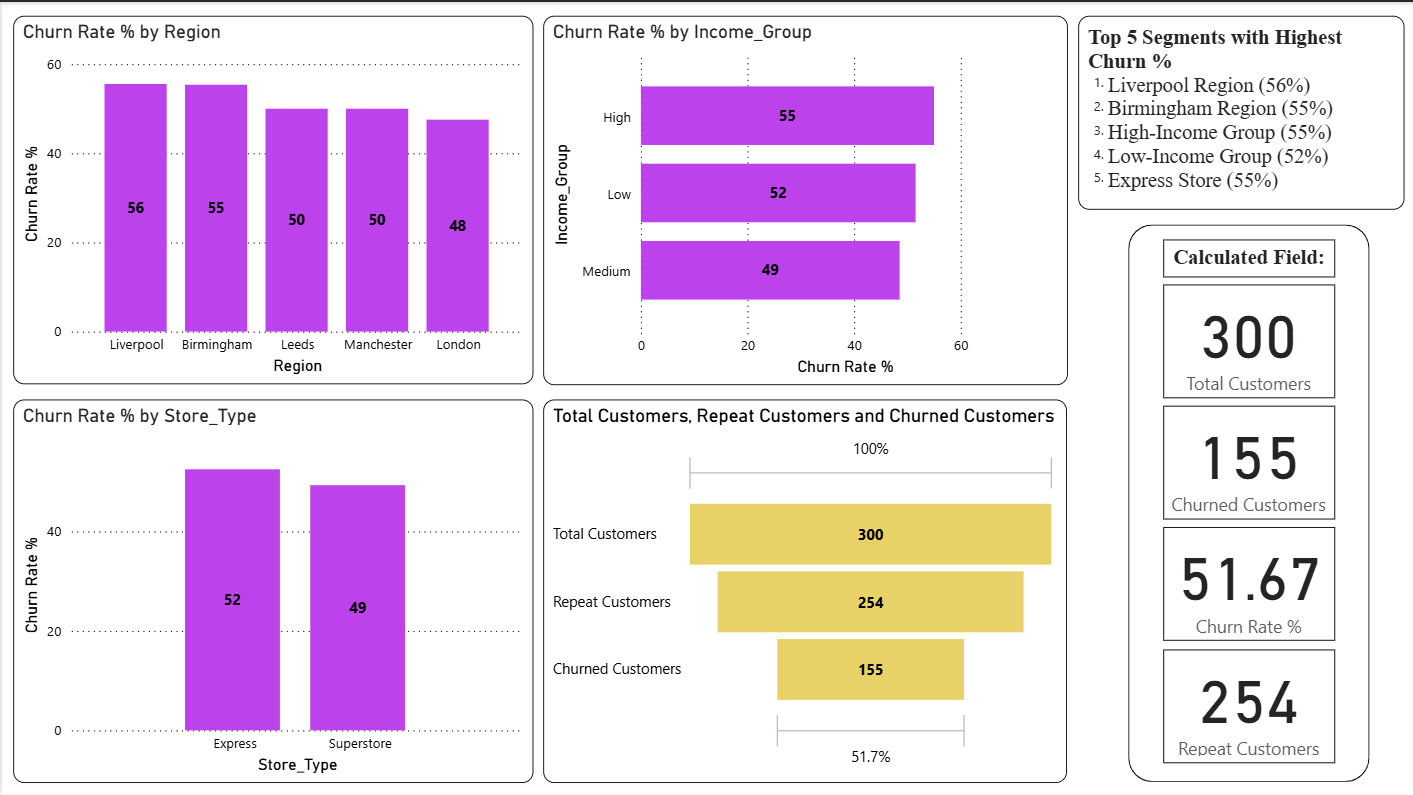

This screenshot's page, from the dashboard's own definition file:
{"tool":"powerbi","page":{"name":"Churn & Retention","canvas":[1280,720],"ordinal":0},"visuals":[{"type":"card","fields":{"Values":["Customer_Demographics.Churned Customers"]},"box":[1054.2,366.6,155.8,103.1],"z":0},{"type":"card","fields":{"Values":["Customer_Demographics.Customers Total"]},"box":[1054.2,256.3,155.8,103.1],"z":1000},{"type":"card","fields":{"Values":["Churn_Labelled_Customers.Churn Rate"]},"box":[1054.2,476.8,155.8,103.1],"z":2000},{"type":"columnChart","fields":{"Category":["Customer_Demographics.Region"],"Y":["Churn_Labelled_Customers.Churn Rate"]},"box":[10.2,12.5,471.8,334.6],"z":3000},{"type":"barChart","fields":{"Category":["Customer_Demographics.Income_Group"],"Y":["Churn_Labelled_Customers.Churn Rate"]},"box":[491.4,12,475.8,335.6],"z":4000},{"type":"columnChart","fields":{"Y":["Churn_Labelled_Customers.Churn Rate"],"Category":["Store_Locations.Store_Type"]},"box":[10.2,360.7,471.8,348.2],"z":5000},{"type":"funnel","fields":{"Y":["Customer_Demographics.Customers Total","Customer_Transactions.Repeat_Customers","Customer_Demographics.Churned Customers"]},"box":[491.1,360.7,475.2,348.2],"z":6000},{"type":"card","fields":{"Values":["Customer_Transactions.Repeat_Customers"]},"box":[1054.2,587.1,155.8,103.1],"z":7000},{"type":"textbox","box":[976.8,12,296,176.2],"z":8000},{"type":"textbox","box":[1054.2,215.6,155.8,34.8],"z":9000},{"type":"shape","box":[1022.2,201.7,218.9,505.9],"z":10000}]}

Visuals, with their boxes in screenshot pixels (x1, y1, x2, y2), scaled from the page's 1280x720 canvas onto the 1413x795 screenshot:
card - Customer_Demographics.Churned Customers: box=[1164, 405, 1336, 519]
card - Customer_Demographics.Customers Total: box=[1164, 283, 1336, 397]
card - Churn_Labelled_Customers.Churn Rate: box=[1164, 526, 1336, 640]
columnChart - Customer_Demographics.Region x Churn_Labelled_Customers.Churn Rate: box=[11, 14, 532, 383]
barChart - Customer_Demographics.Income_Group x Churn_Labelled_Customers.Churn Rate: box=[542, 13, 1068, 384]
columnChart - Churn_Labelled_Customers.Churn Rate x Store_Locations.Store_Type: box=[11, 398, 532, 783]
funnel - Customer_Demographics.Customers Total x Customer_Transactions.Repeat_Customers: box=[542, 398, 1067, 783]
card - Customer_Transactions.Repeat_Customers: box=[1164, 648, 1336, 762]
textbox: box=[1078, 13, 1405, 208]
textbox: box=[1164, 238, 1336, 276]
shape: box=[1128, 223, 1370, 781]
